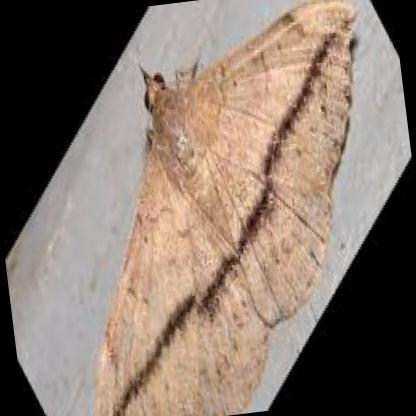Leaf Webber: (89, 0, 353, 416)
